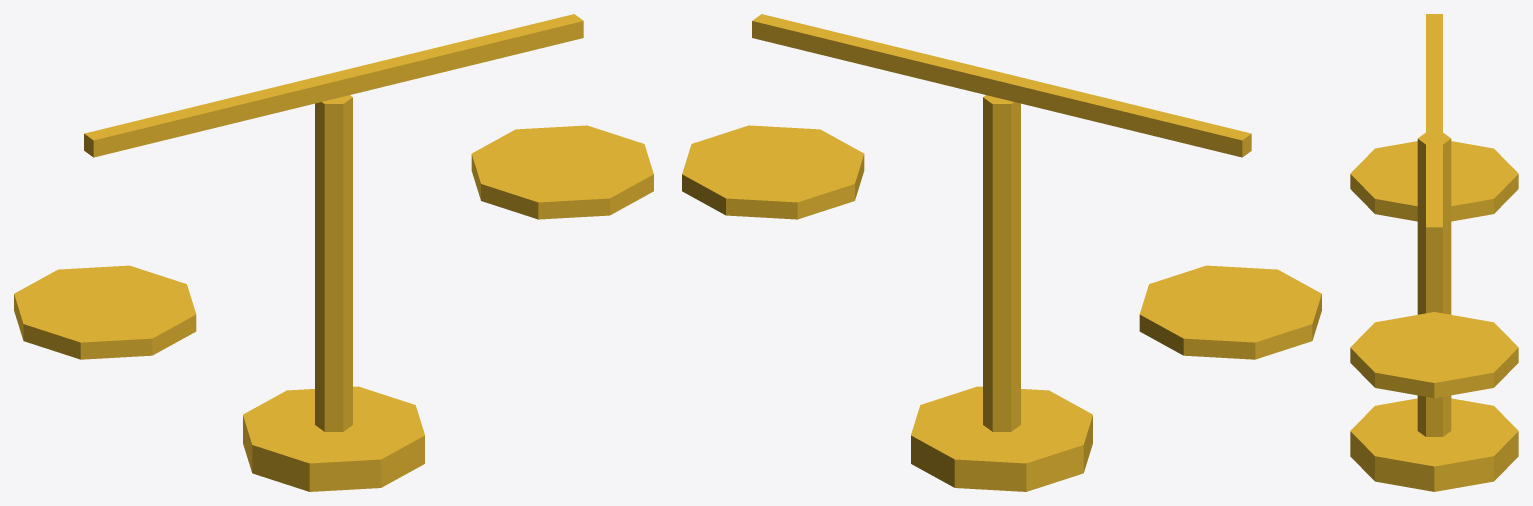
Rendered from scales.glb.
3 renders of one model, left to right at view 1: azimuth 30°, elevation 25°; view 2: azimuth 150°, elevation 25°; view 3: azimuth 270°, elevation 25°, orthographic. The views are drawn at different scales.
Visible parts, largest first — view 1: scales; view 2: scales; view 3: scales.
Part boxes in pixels (x1,y1,x2,y2): scales: (14, 14, 653, 491); scales: (682, 14, 1321, 491); scales: (1350, 14, 1518, 491).
Size of the model in its own units: 1.14 by 0.66 by 0.3.
